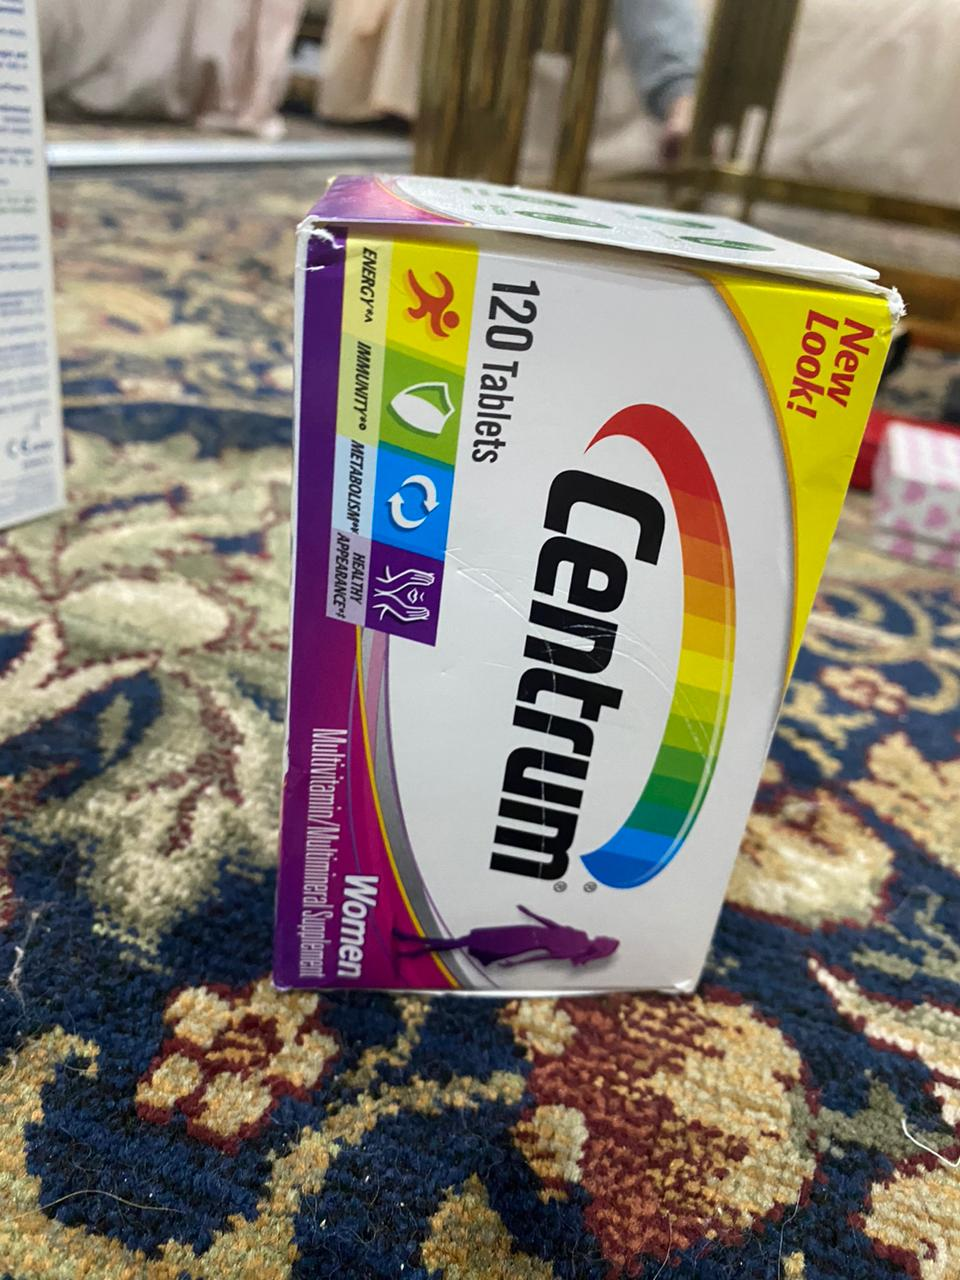Centrum: (275, 170, 910, 1004)
Physiomer: (5, 2, 78, 534)
